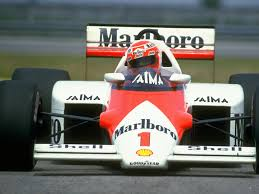f1_car: (1, 17, 259, 183)
